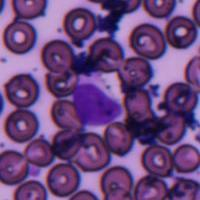L: (71, 73, 123, 126)
